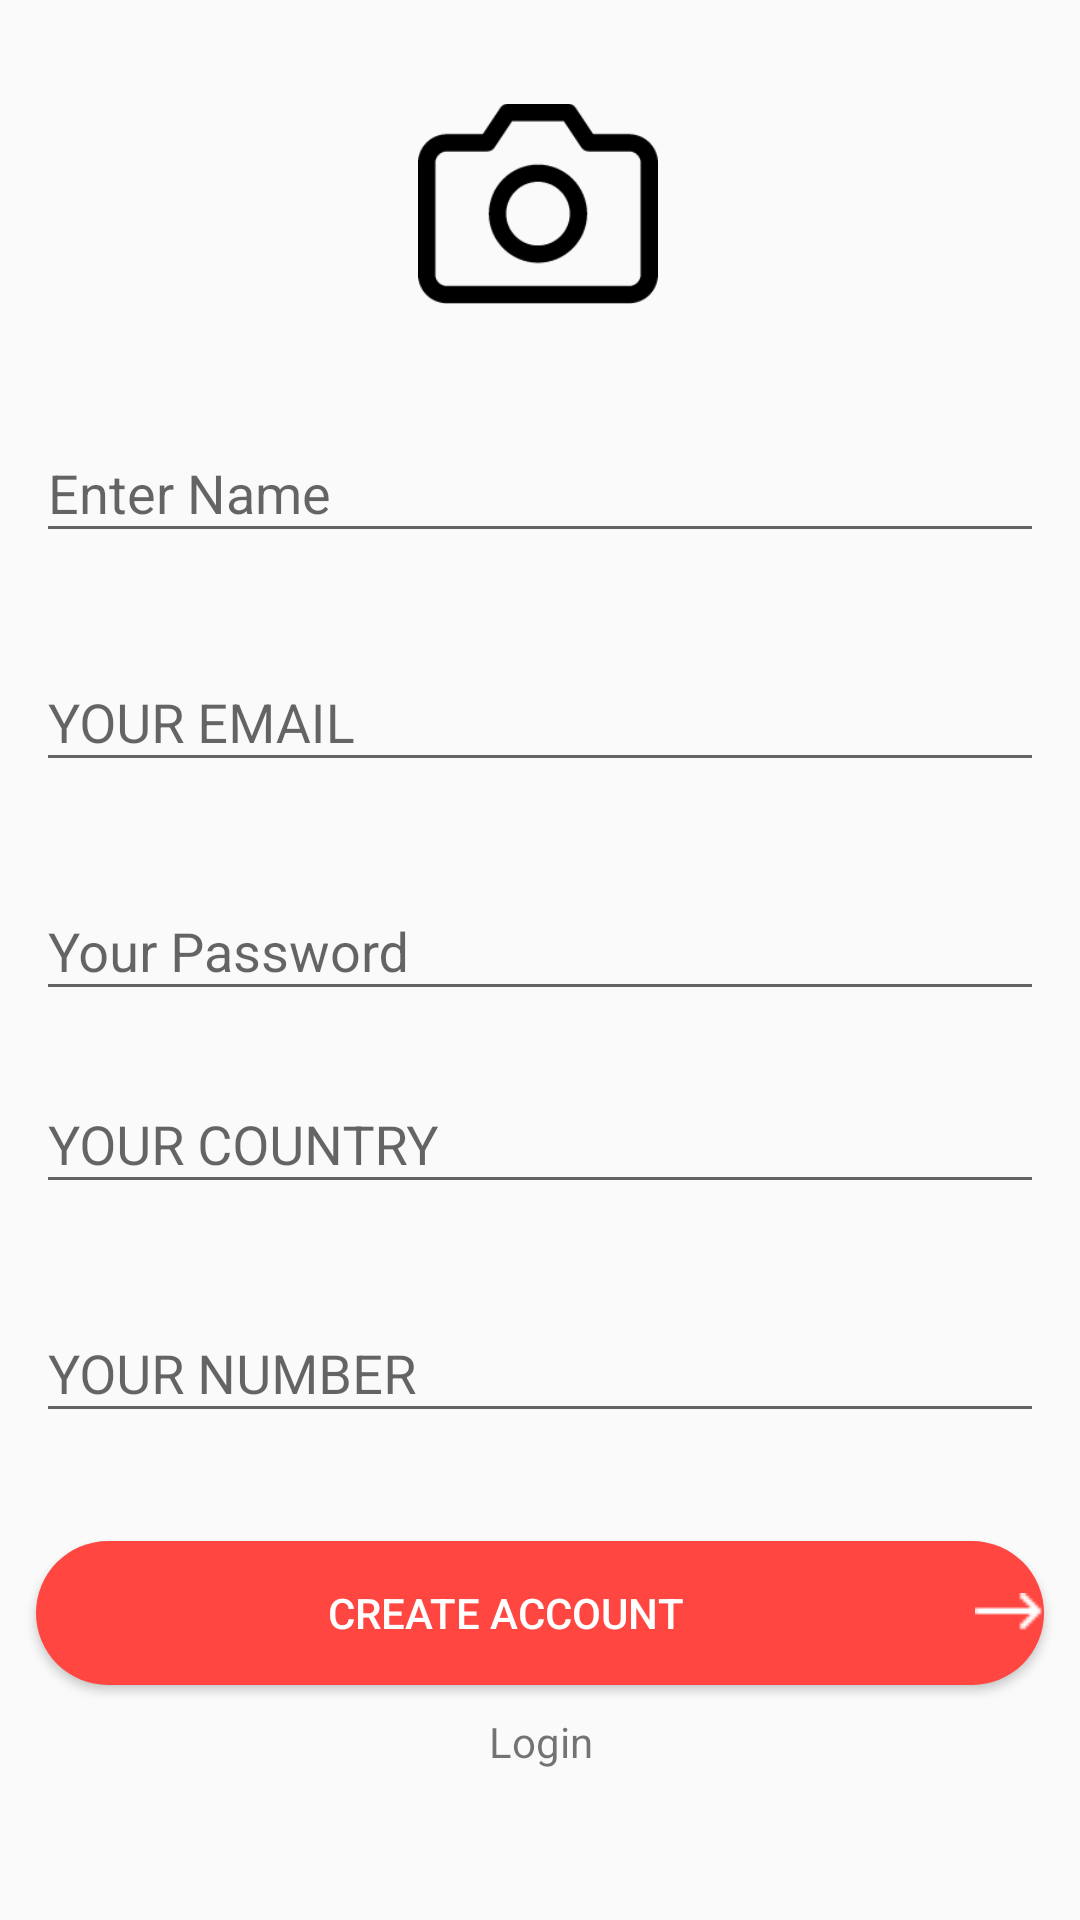

Icons on this 1080px x 1920px Android screen, each with its box as box(x1, y1, x2, y2):
feather camera: box(418, 104, 658, 304)
